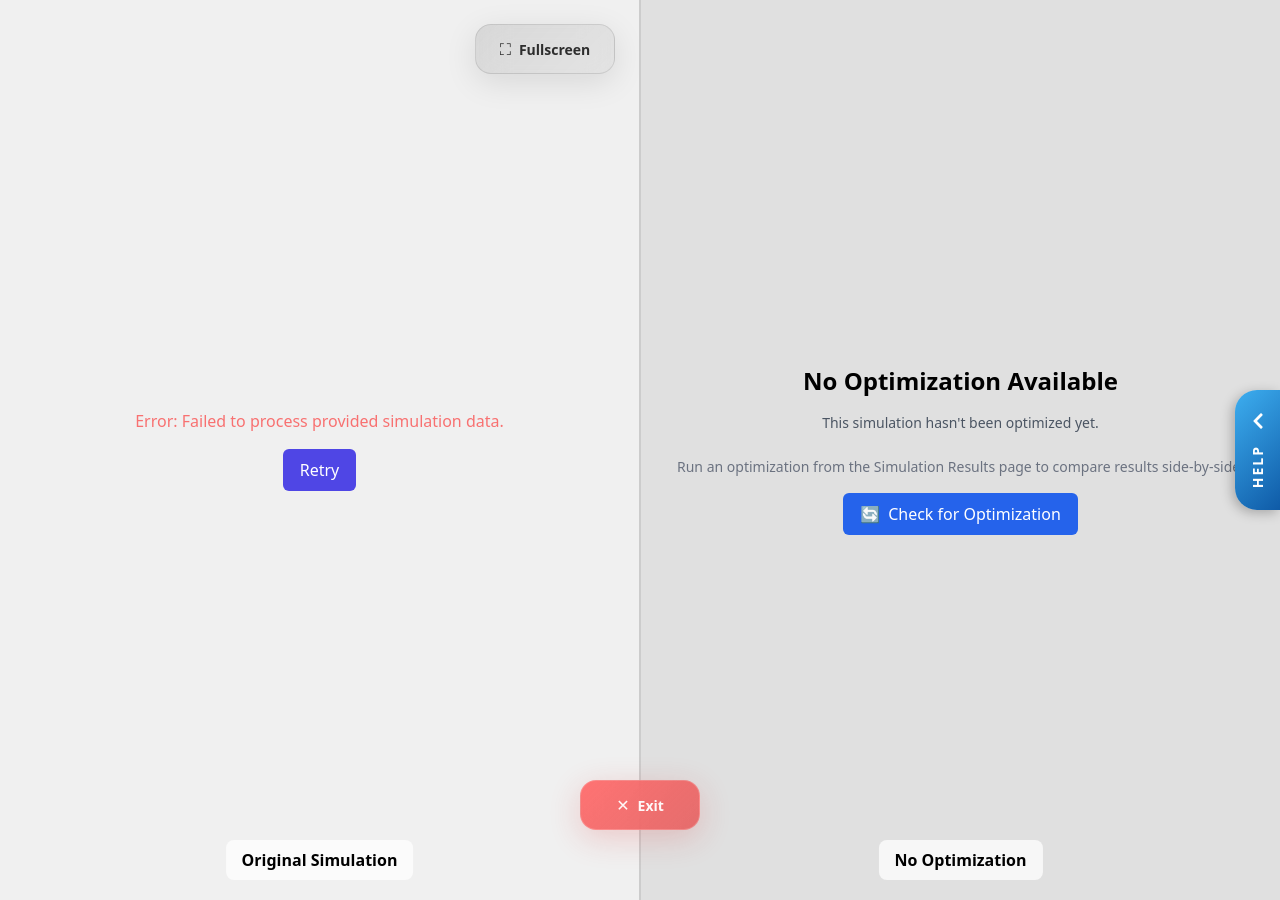
Test: ComparisonView › clicking refresh optimization shows error
What coordinates should you click on to do the following:
click the button "🔄 Check for Optimization"
I would click on:
 (960, 514)
Its box is [843,493,1078,535].
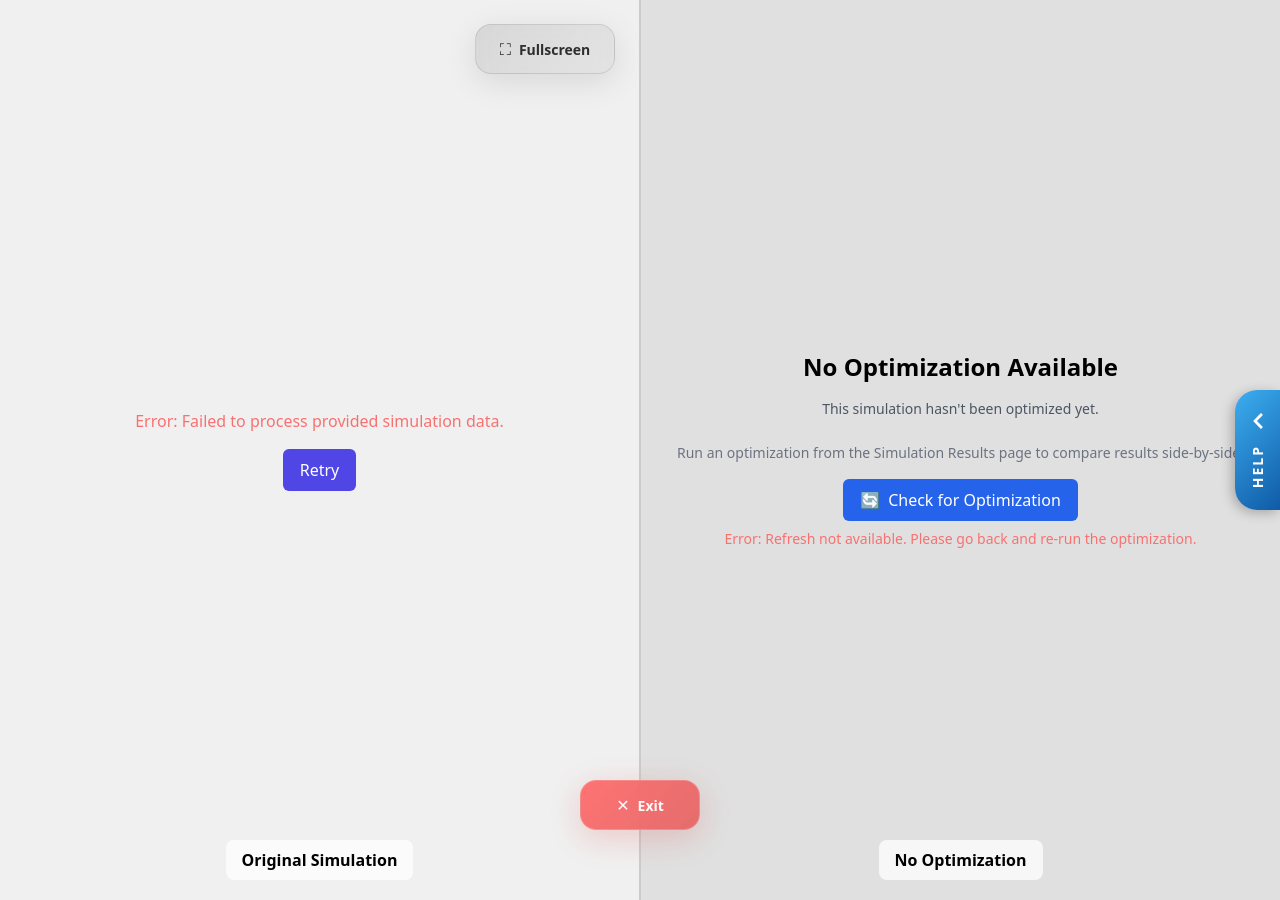
Now the text "Error: Refresh not available" is shown, box [724,529,1196,548]
